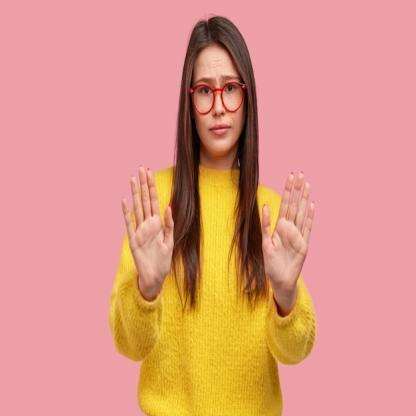stop: (260, 167, 318, 296), (121, 162, 176, 292)
